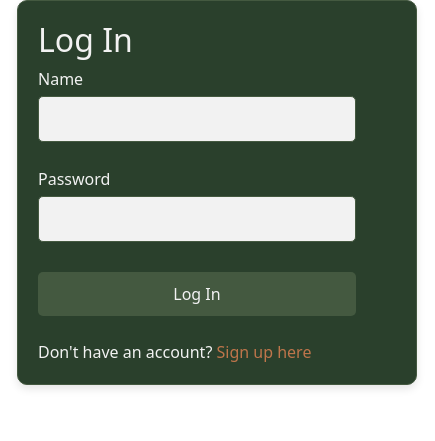
Scenario: network error during form submission displays generic error message
The width and height of the screenshot is (435, 441).
Type "anyUser" into the field with test id "login-username" at (197, 119), box [38,96,356,142]
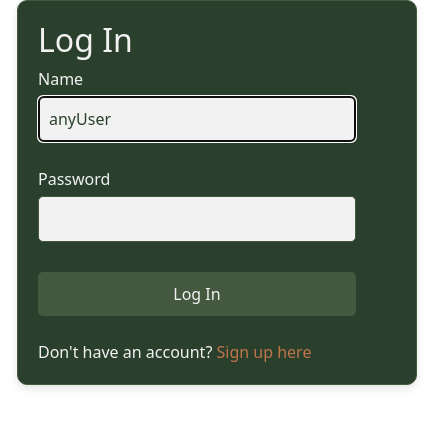
Type "anyPassword" into the password field with test id "login-password" at (197, 219), box [38,196,356,242]
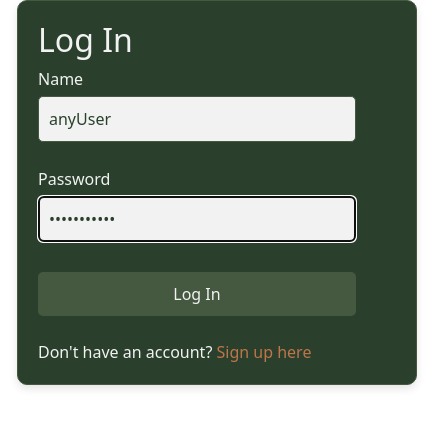
Click the button "Log In" at (197, 294), box [38,272,356,316]
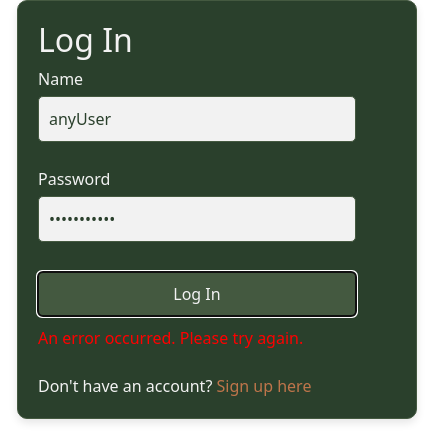
Expected: the text with test id "login-error" reads "An error occurred. Please try again.", [38,327,303,349]
